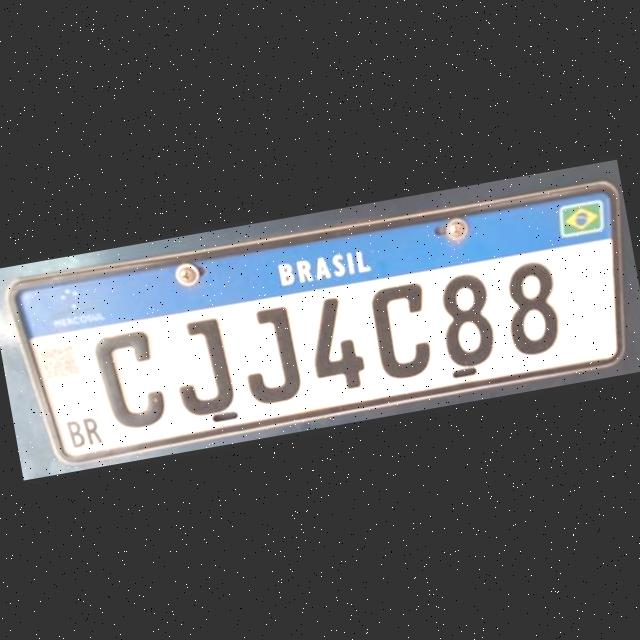Caractere: (89, 323, 169, 433), (166, 312, 241, 426), (232, 300, 308, 408), (364, 276, 438, 384), (498, 254, 568, 360), (298, 290, 369, 394), (432, 266, 500, 373)
Placa: (7, 173, 640, 474)
